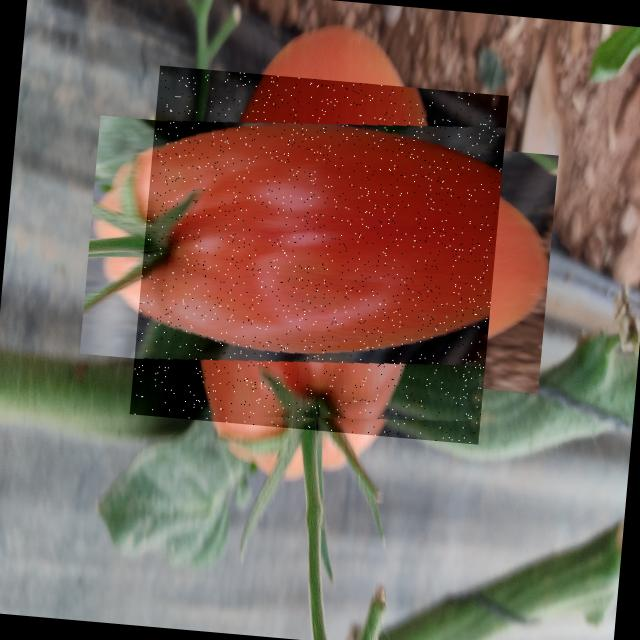Unripe Tomato: (129, 65, 508, 444)
